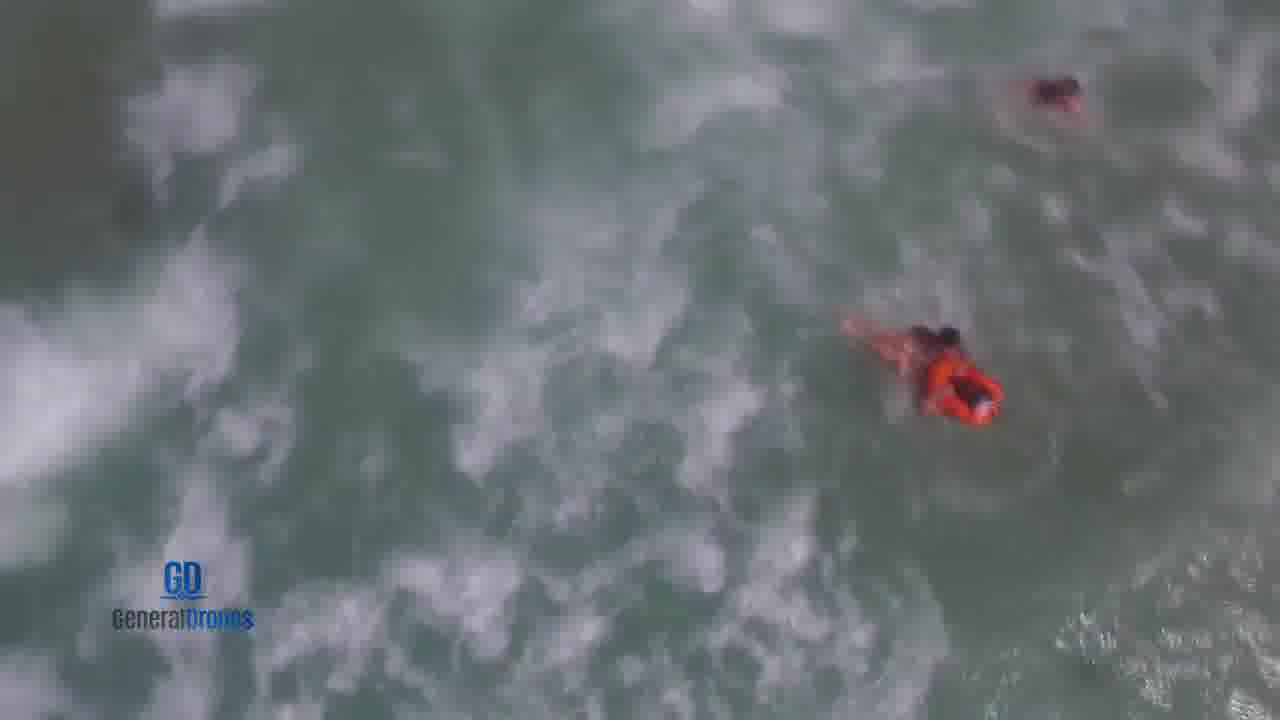human: (852, 321, 998, 421), (1010, 65, 1099, 118), (909, 306, 986, 364)
